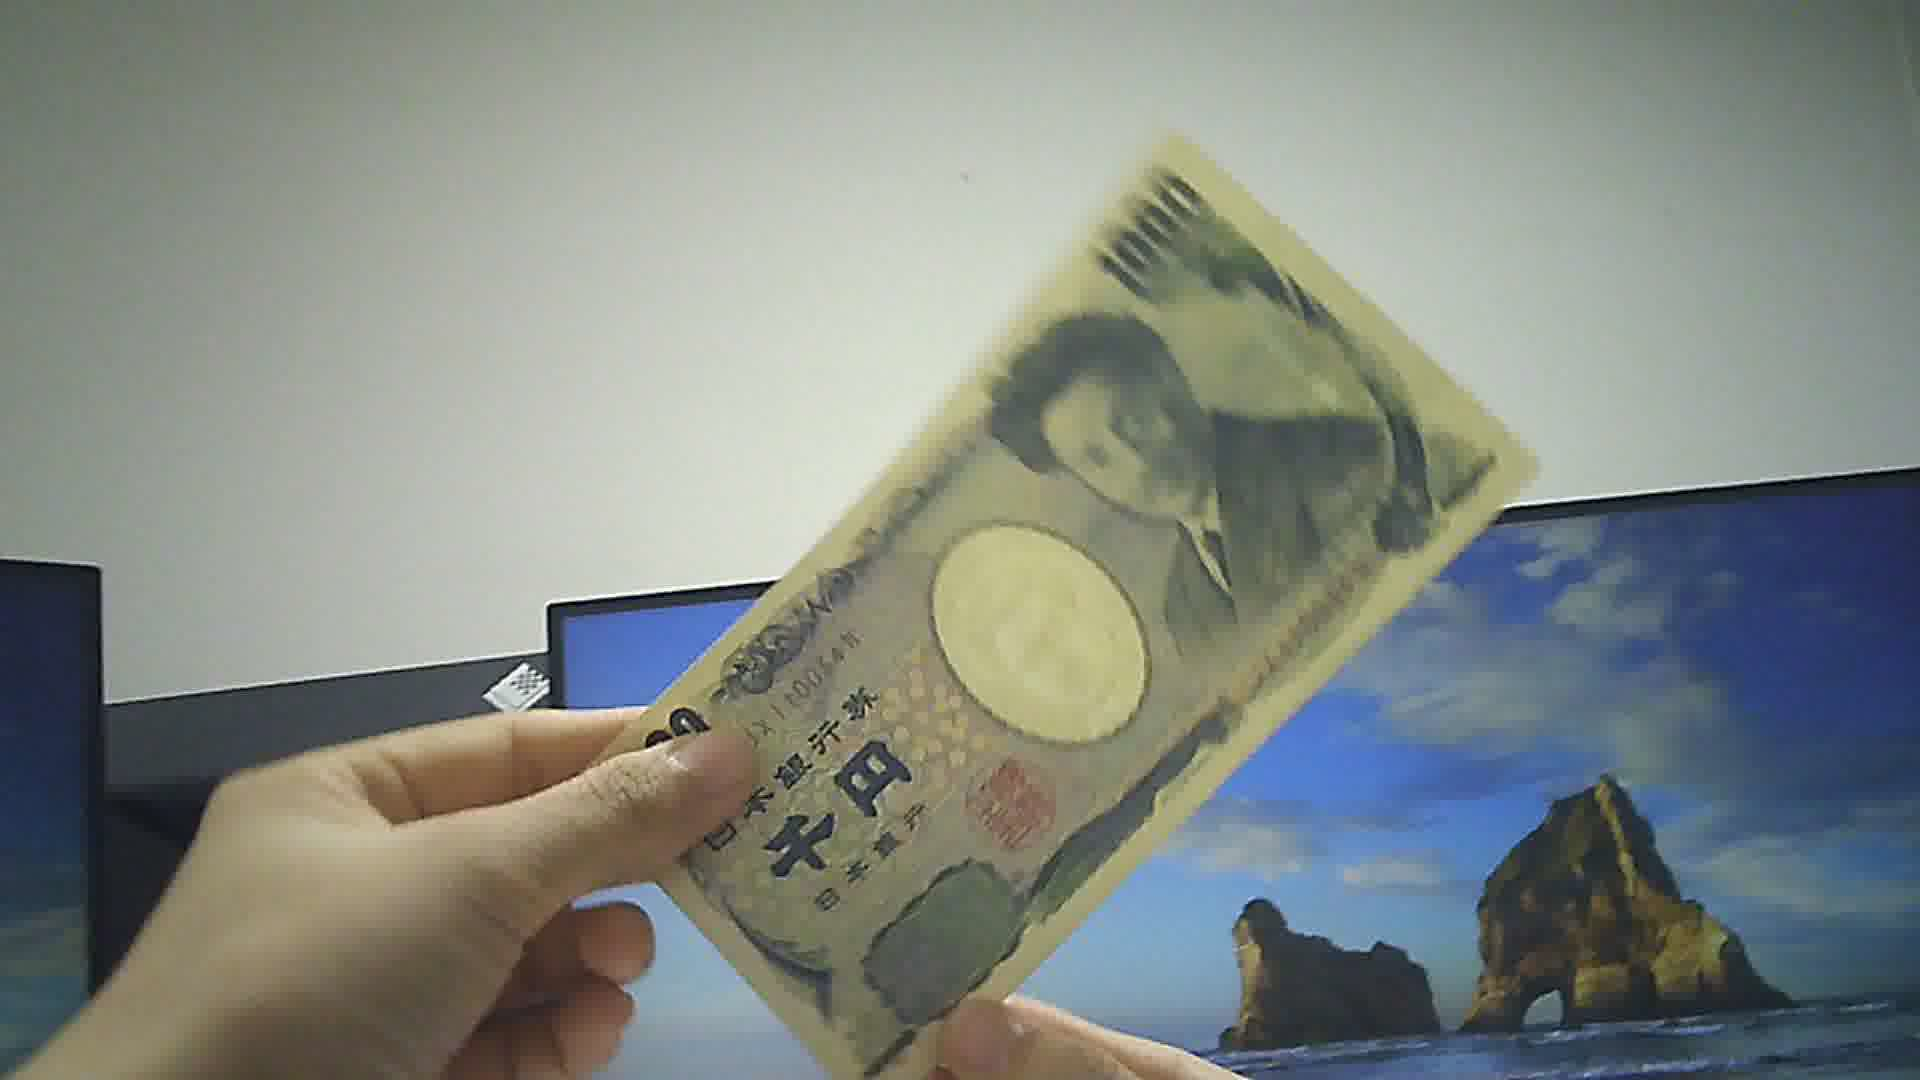1,000 Yen: (534, 104, 1545, 1073)
